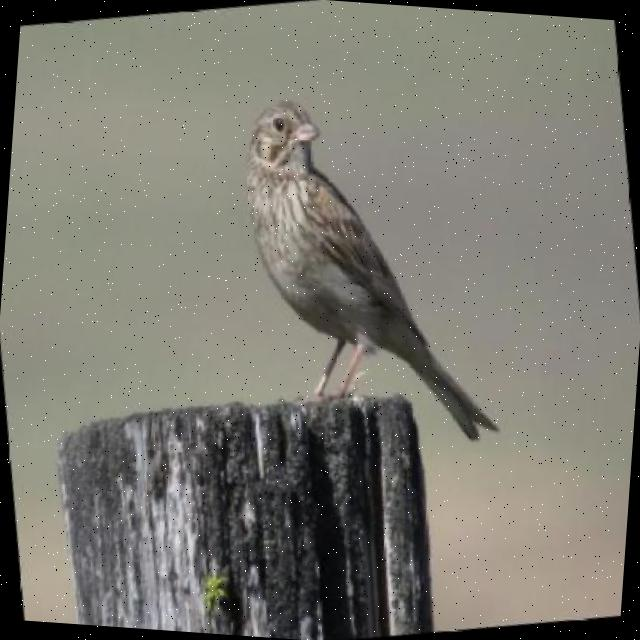sparrow: (213, 63, 520, 468)
